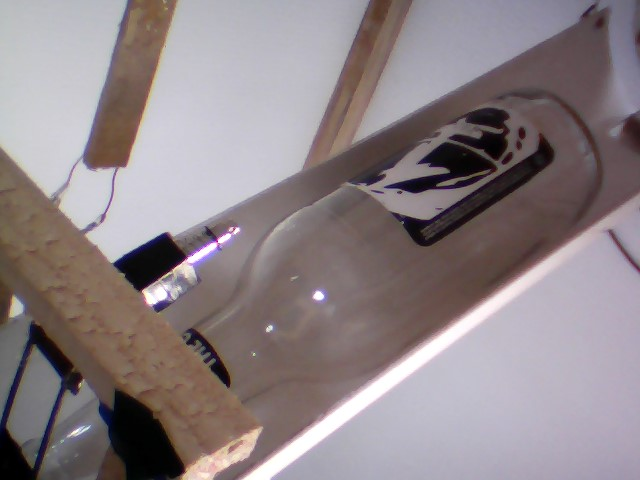vidrio: (167, 83, 605, 405)
